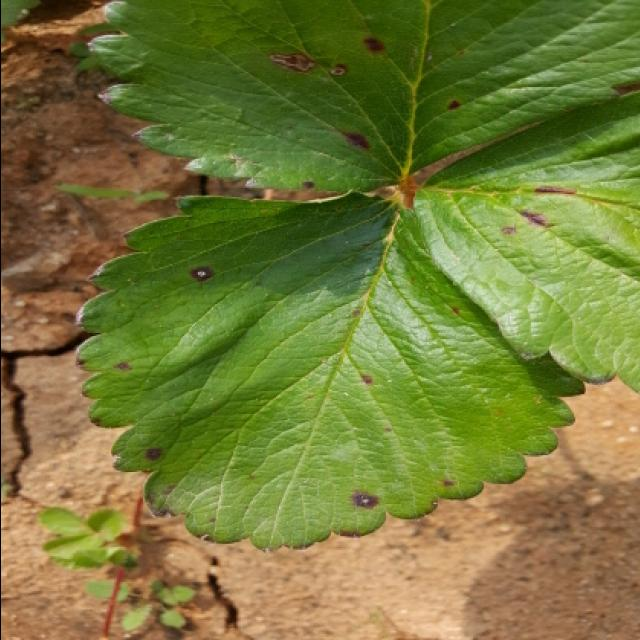Leaf Spot: (75, 187, 585, 556), (85, 0, 640, 193), (409, 90, 640, 394)
